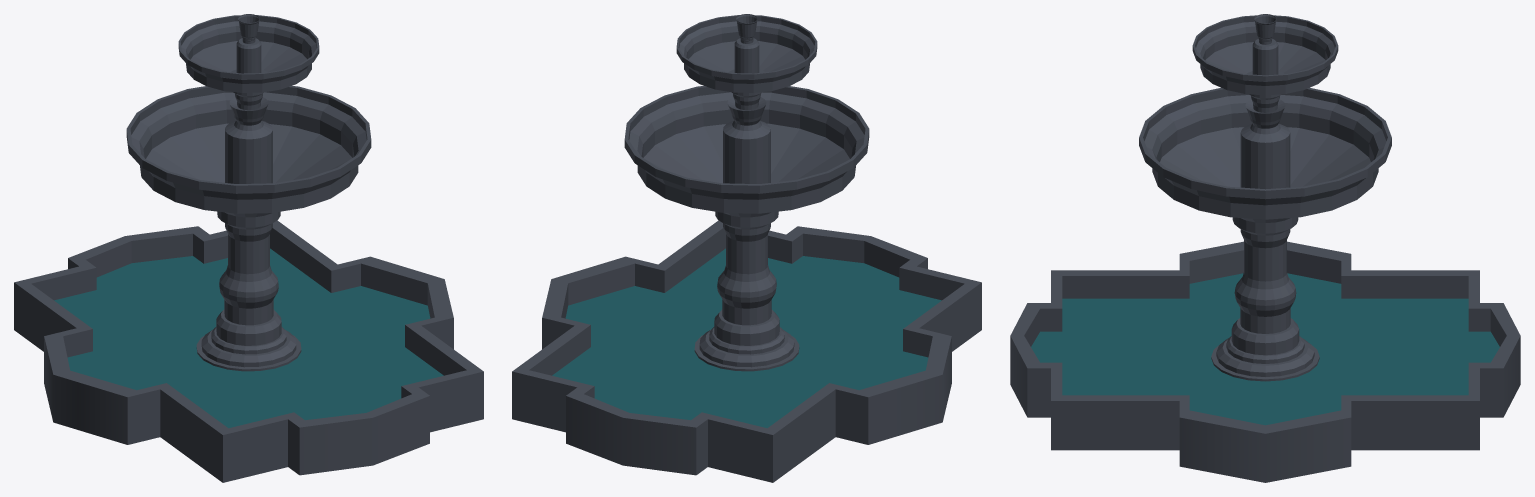
The model's file is TT_Fountain.fbx.
3 views of the same model, side by side, from view 1: azimuth 30°, elevation 25°; view 2: azimuth 150°, elevation 25°; view 3: azimuth 270°, elevation 25° (orthographic). The views are drawn at different scales.
Parts seen in each view (by area): view 1: Fountain; view 2: Fountain; view 3: Fountain.
Part boxes in pixels (x1=…): Fountain: x1=14, y1=14, x2=483, y2=482; Fountain: x1=512, y1=14, x2=981, y2=482; Fountain: x1=1010, y1=14, x2=1520, y2=482.
Size of the model in its own units: 169 by 147 by 186.
